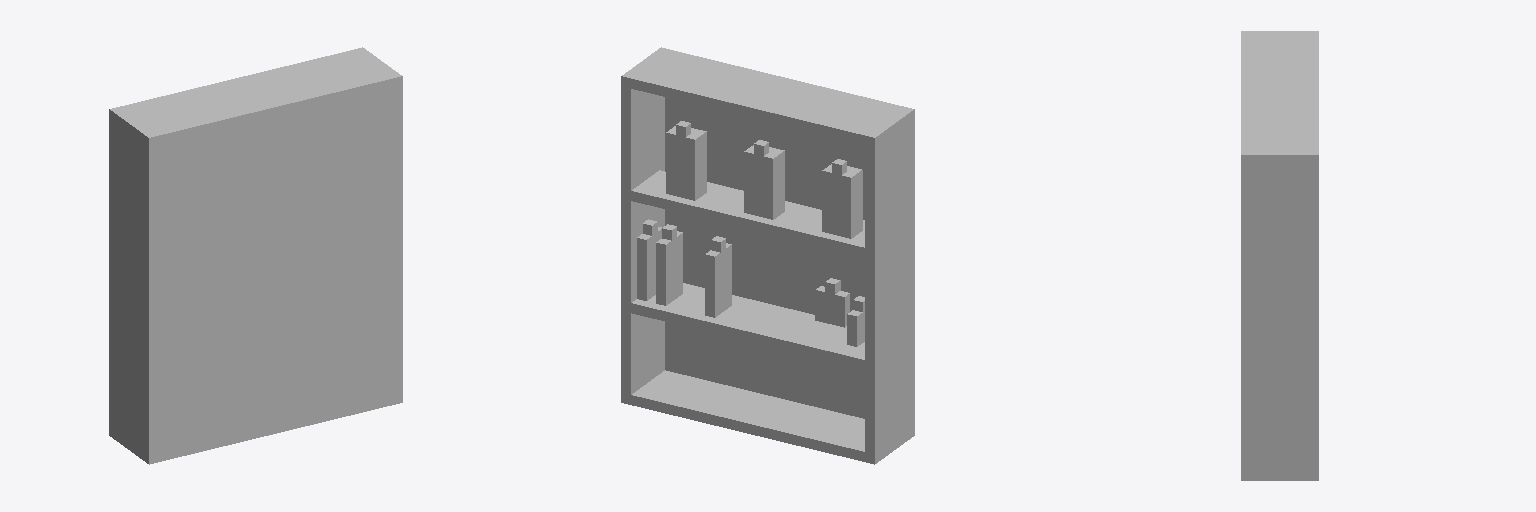
File: cupboard with alcohol.obj
3 renders of one model, left to right at view 1: azimuth 30°, elevation 25°; view 2: azimuth 150°, elevation 25°; view 3: azimuth 270°, elevation 25°, orthographic.
Parts seen in each view (by area): view 1: object 1; view 2: object 1; view 3: object 1.
Part boxes in pixels (x1,y1,x2,y2): object 1: (109,47,402,464); object 1: (621,47,914,464); object 1: (1241,31,1318,480).
Size of the model in its own units: 2.6 by 3.2 by 0.7.